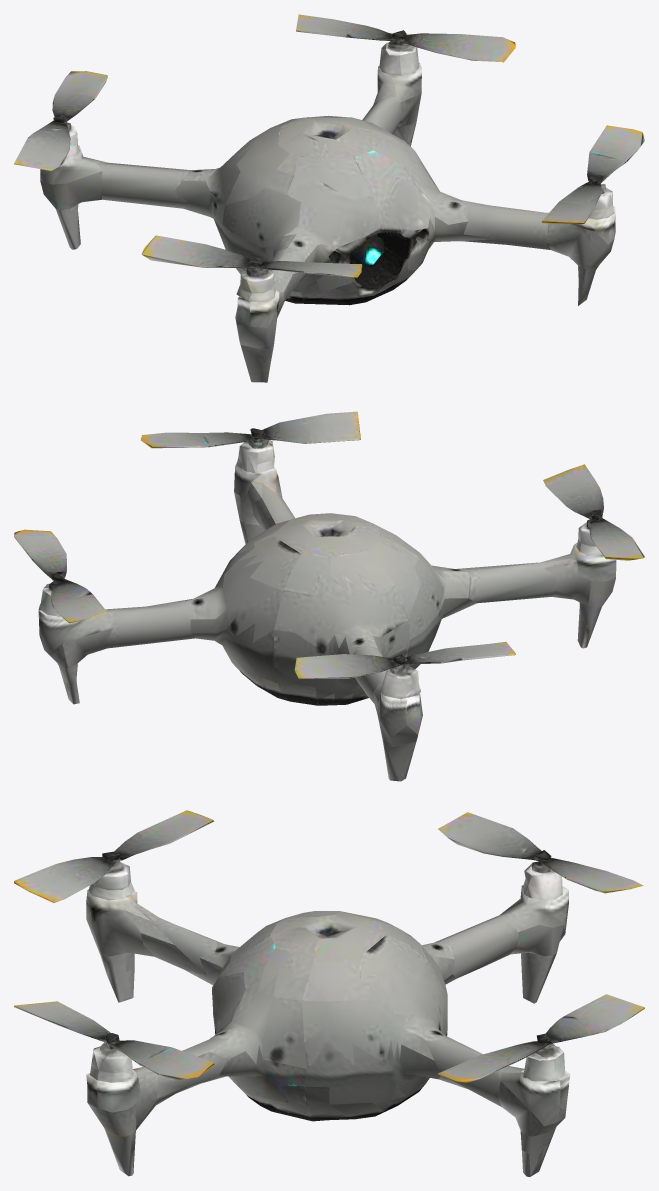
File: drone.lod1.glb
The picture shows the model from 3 angles, top to bottom: view 1: azimuth 30°, elevation 25°; view 2: azimuth 150°, elevation 25°; view 3: azimuth 270°, elevation 25°; orthographic projection. The views are drawn at different scales.
Bounding box in the file's own units: 0.6 × 0.1746 × 0.5941.
1 material, 1 textured.
